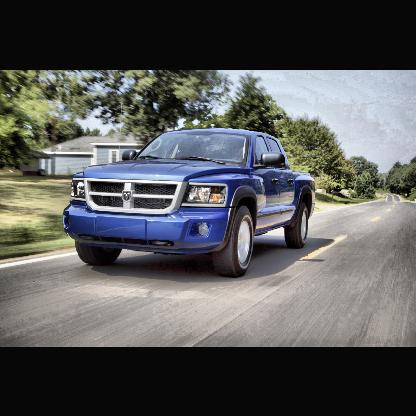Dodge Dakota Crew Cab 2010: (61, 127, 319, 280)
